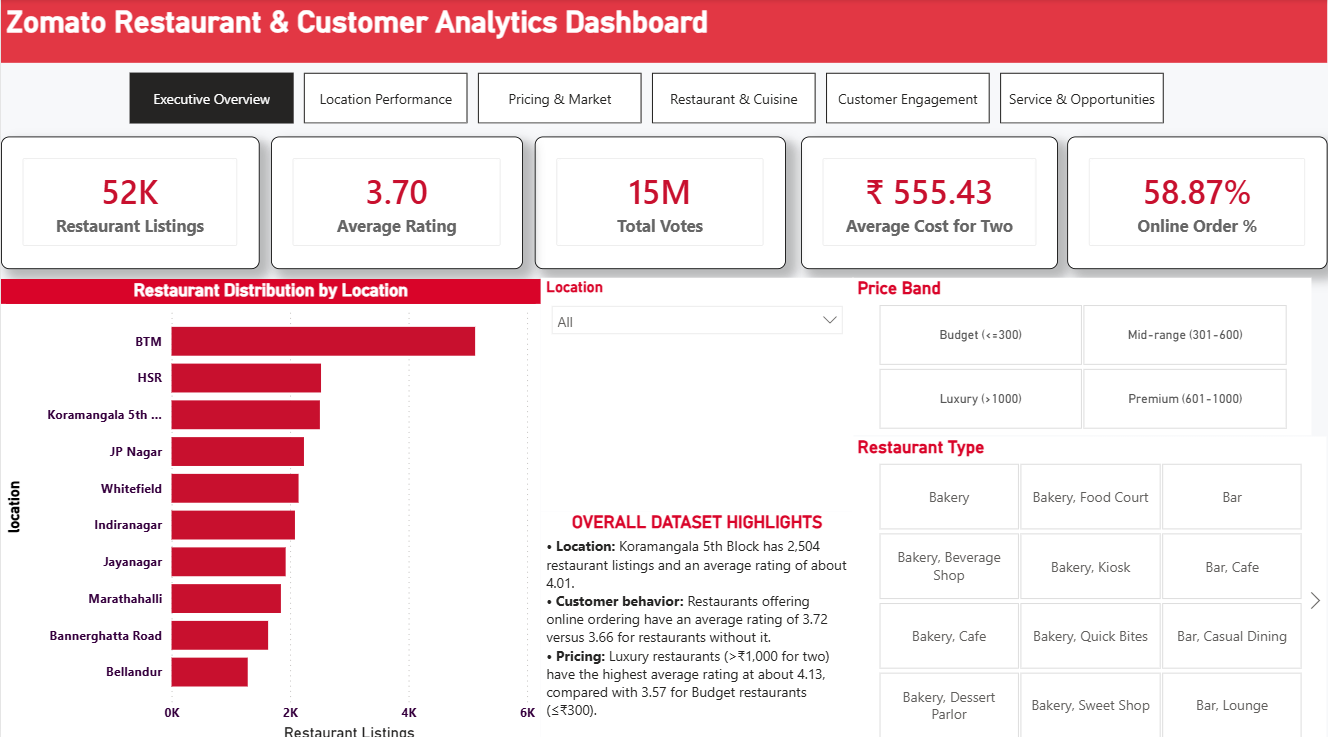

Layout of this report page (visuals, bound fields, positions):
{"tool":"powerbi","page":{"name":"Executive Overview","canvas":[1280,720],"ordinal":0},"visuals":[{"type":"cardVisual","fields":{"Data":["zomato_cleaned_final.Total Restaurants"]},"box":[0,132.4,249.7,127.9],"z":0},{"type":"shape","box":[0,0,1280,61.9],"z":1000},{"type":"cardVisual","fields":{"Data":["zomato_cleaned_final.Average Cost for Two"]},"box":[771.8,132.4,248.1,127.9],"z":2000},{"type":"cardVisual","fields":{"Data":["Sum(zomato_cleaned_final.votes)"]},"box":[514.6,132.4,242.1,127.9],"z":3000},{"type":"cardVisual","fields":{"Data":["zomato_cleaned_final.Average Rating"]},"box":[260.3,132.4,243.6,127.9],"z":4000},{"type":"cardVisual","fields":{"Data":["zomato_cleaned_final.Online Order %"]},"box":[1029.1,132.4,251.2,127.9],"z":5000},{"type":"clusteredBarChart","title":"Restaurant Distribution by Location","fields":{"Category":["zomato_cleaned_final.location"],"Y":["zomato_cleaned_final.Total Restaurants"]},"box":[0,270,520.9,451],"z":6000},{"type":"slicer","title":"Location","fields":{"Values":["zomato_cleaned_final.location"]},"box":[520.6,269.5,301.4,225.3],"z":7000},{"type":"slicer","title":"Price Band","fields":{"Values":["zomato_cleaned_final.price_band"]},"box":[822.1,269.5,443,152.2],"z":8000},{"type":"slicer","title":"Restaurant Type","fields":{"Values":["zomato_cleaned_final.rest_type"]},"box":[822.1,422.1,457.9,297.9],"z":9000},{"type":"textbox","box":[0,0,1280,61.9],"z":10000},{"type":"pageNavigator","box":[124.3,71.5,1000.9,49.4],"z":11000},{"type":"textbox","title":"OVERALL DATASET HIGHLIGHTS","box":[520.6,494.8,301.4,225.3],"z":12000}]}

Visuals, with their boxes in screenshot pixels (x1, y1, x2, y2), scaled from the page's 1280x720 canvas onto the 1328x737 screenshot:
cardVisual - zomato_cleaned_final.Total Restaurants: 0:136:259:266
shape: 0:0:1327:63
cardVisual - zomato_cleaned_final.Average Cost for Two: 801:136:1058:266
cardVisual - Sum(zomato_cleaned_final.votes): 534:136:785:266
cardVisual - zomato_cleaned_final.Average Rating: 270:136:523:266
cardVisual - zomato_cleaned_final.Online Order %: 1068:136:1327:266
"Restaurant Distribution by Location" clusteredBarChart: 0:276:540:736
"Location" slicer: 540:276:853:506
"Price Band" slicer: 853:276:1313:432
"Restaurant Type" slicer: 853:432:1327:736
textbox: 0:0:1327:63
pageNavigator: 129:73:1167:124
"OVERALL DATASET HIGHLIGHTS" textbox: 540:506:853:736
